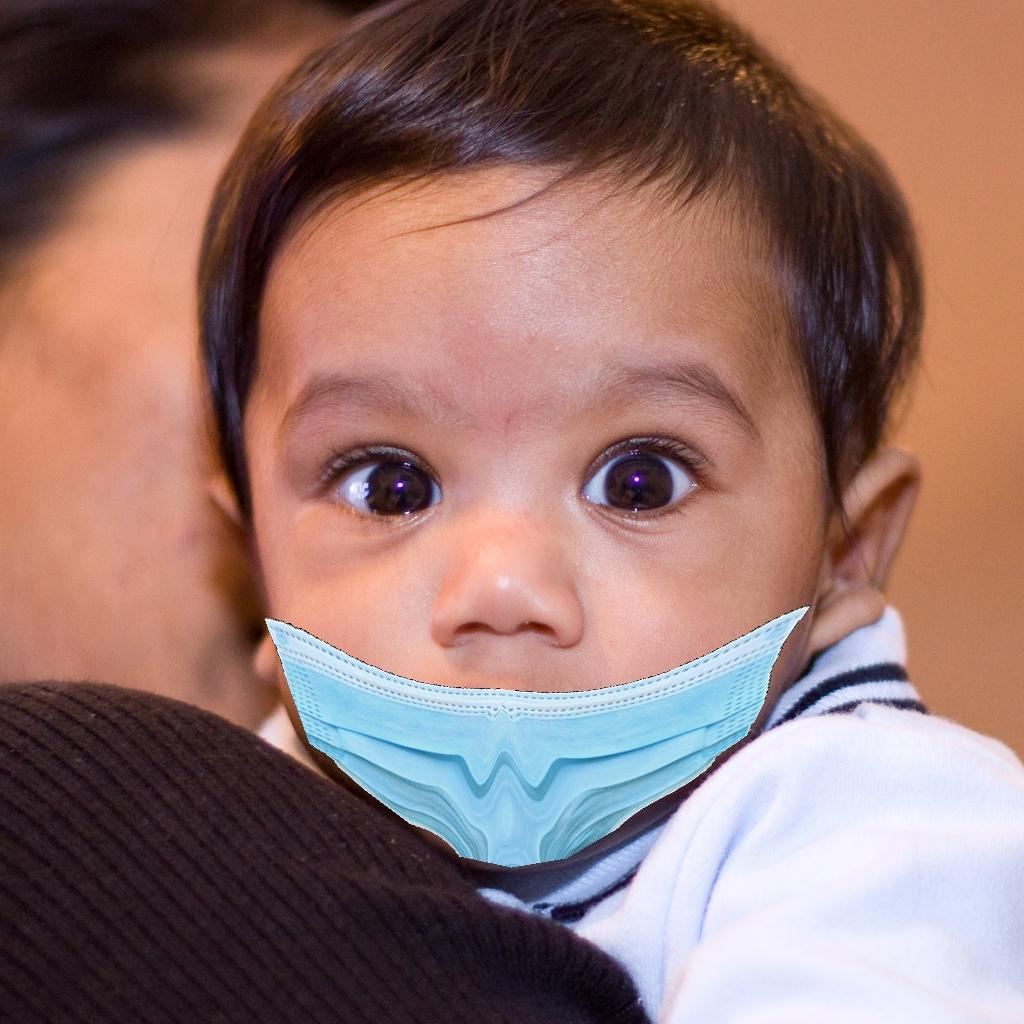Máscara Incorreta: (248, 310, 797, 844)
